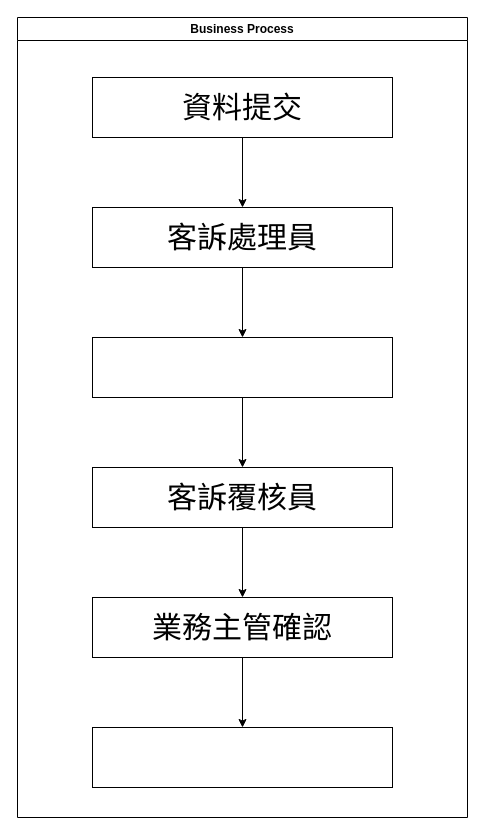
This 485x835 diagram has some shape labels left out. Each missing label, with the box of its shape:
申請業務確認: (92, 336, 392, 398)
結案: (92, 726, 392, 788)
